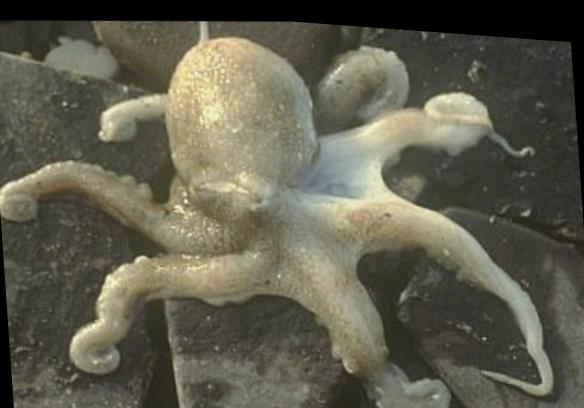Cephalopod: (0, 17, 554, 408)
